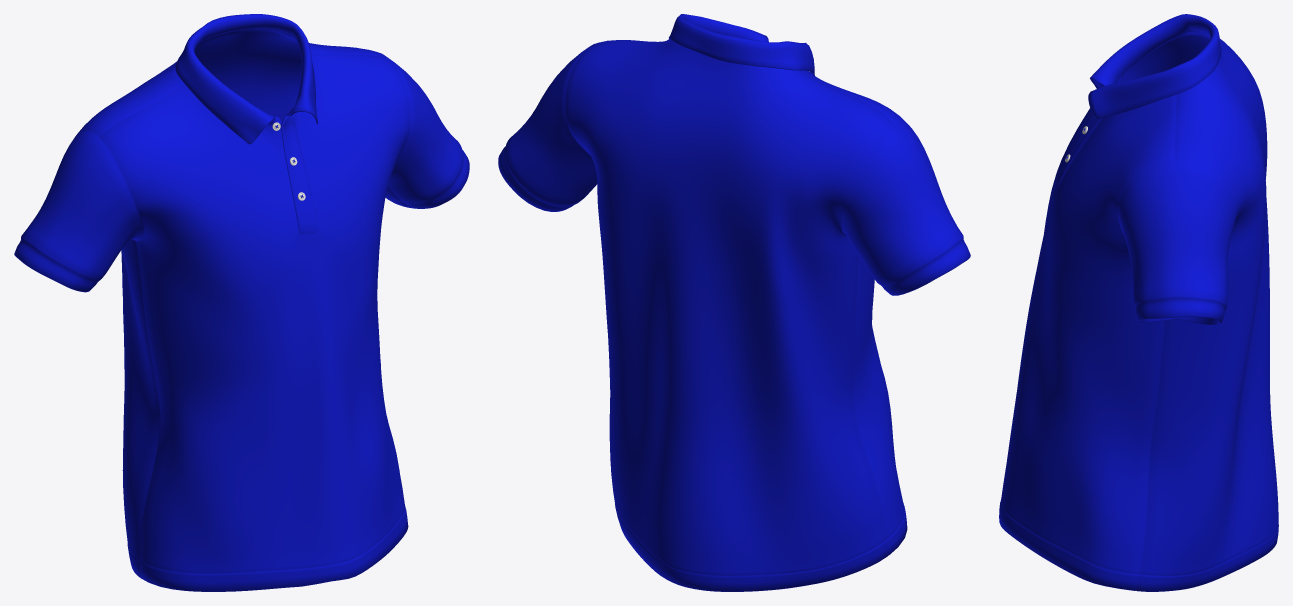
File: mens tshirt2.glb
The picture shows the model from 3 angles, left to right: view 1: azimuth 30°, elevation 25°; view 2: azimuth 150°, elevation 25°; view 3: azimuth 270°, elevation 25°; orthographic projection. The views are drawn at different scales.
Visible parts, largest first — view 1: Polo Shirt.001; view 2: Polo Shirt.001; view 3: Polo Shirt.001.
Part boxes in pixels (bbox=[...]): Polo Shirt.001: bbox=[14, 14, 469, 591]; Polo Shirt.001: bbox=[498, 14, 970, 591]; Polo Shirt.001: bbox=[999, 14, 1278, 591].
Size of the model in its own units: 0.6433 by 0.7101 by 0.3541.
